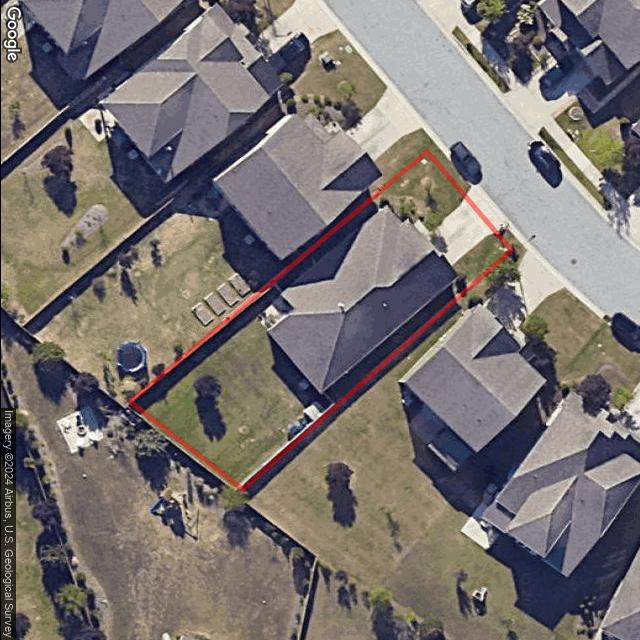Driveway: (424, 196, 497, 267)
Extra-Driveway: (464, 188, 505, 234)
Extra-Lawn: (427, 143, 471, 196), (495, 226, 520, 252)
House: (266, 204, 460, 394)
Lawn: (129, 151, 510, 489)
Other: (282, 396, 332, 445), (373, 194, 427, 226), (252, 290, 291, 331)
Sidewalk: (411, 218, 427, 233)
